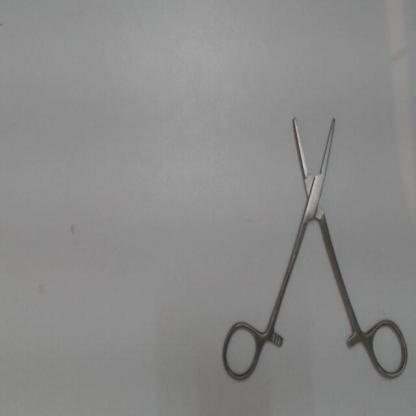Mayo Needle Holder: (216, 101, 413, 386)
